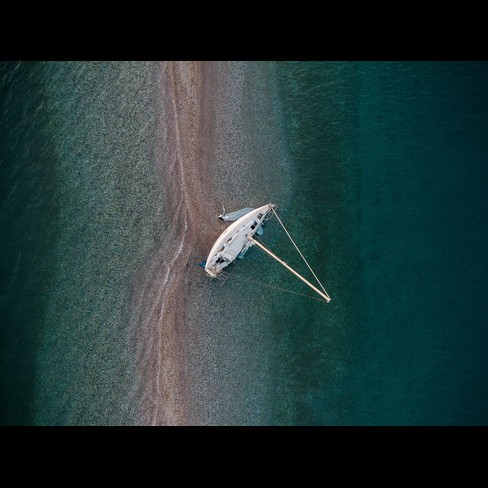boat: (196, 198, 342, 312)
